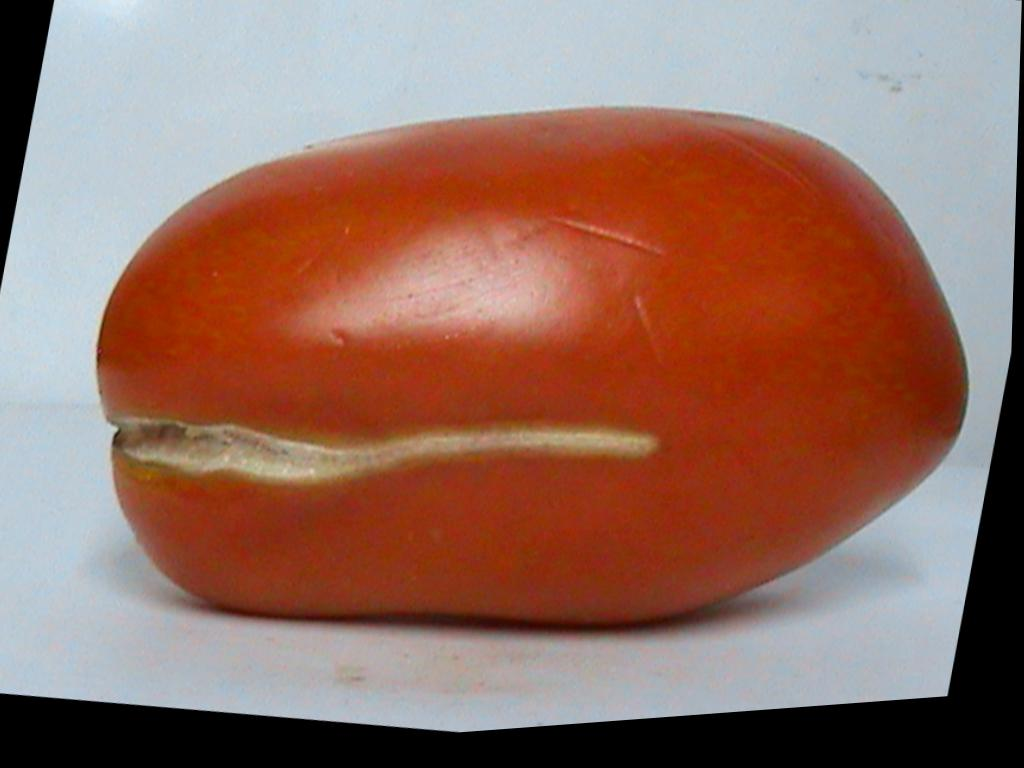surface_damage: (115, 419, 657, 484)
tomato: (98, 108, 967, 622)
